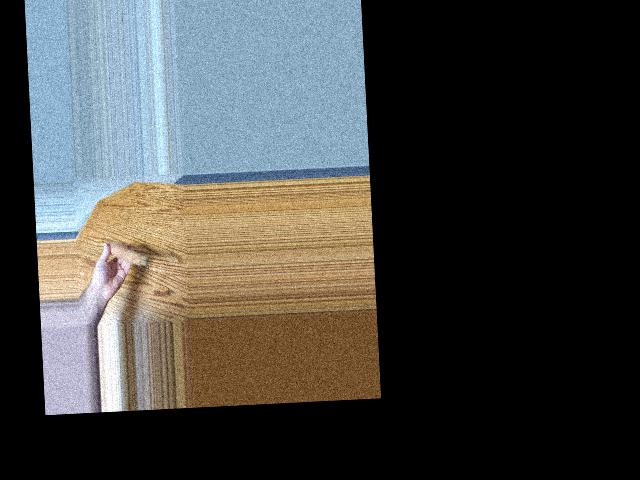sweet_potato: (104, 239, 148, 270)
